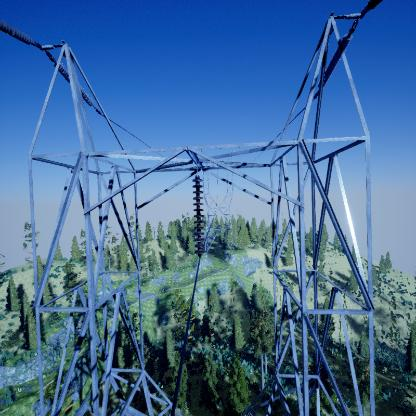insulator: (191, 175, 205, 259)
